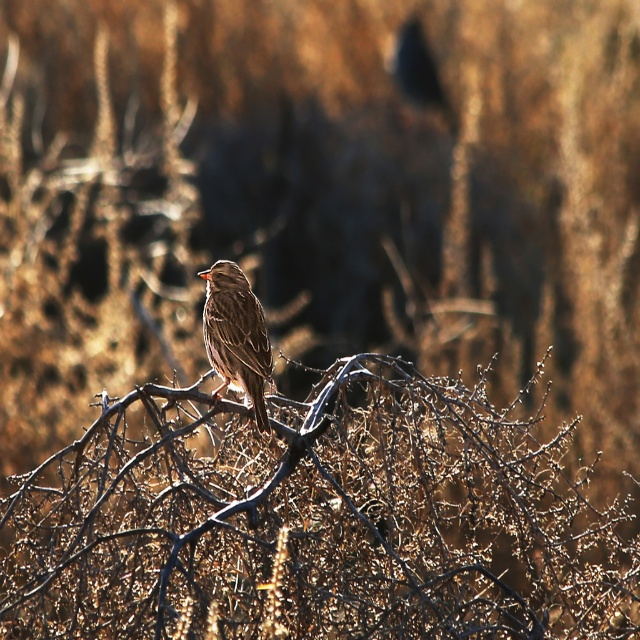Sparrow: (197, 260, 274, 434)
